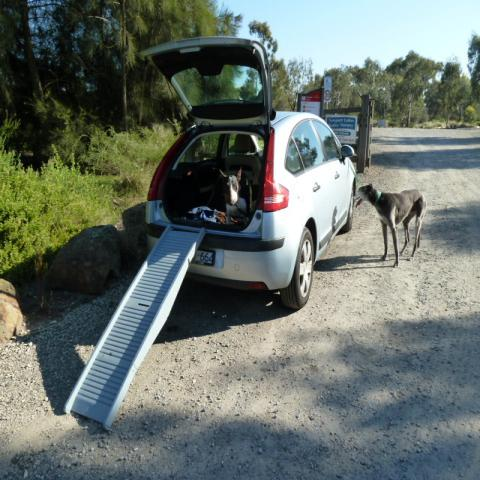car: (142, 38, 357, 310)
